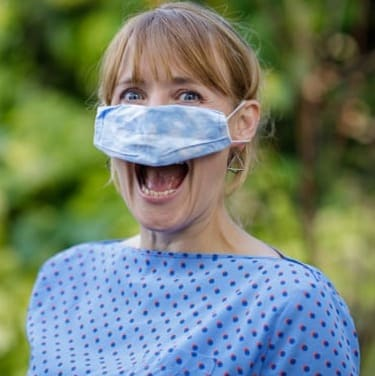with_incorrect_mask: (107, 62, 228, 230)
